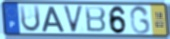6: (108, 5, 129, 35)
A: (41, 6, 66, 33)
B: (84, 6, 108, 34)
G: (129, 5, 152, 36)
U: (18, 4, 42, 34)
V: (62, 4, 85, 34)
